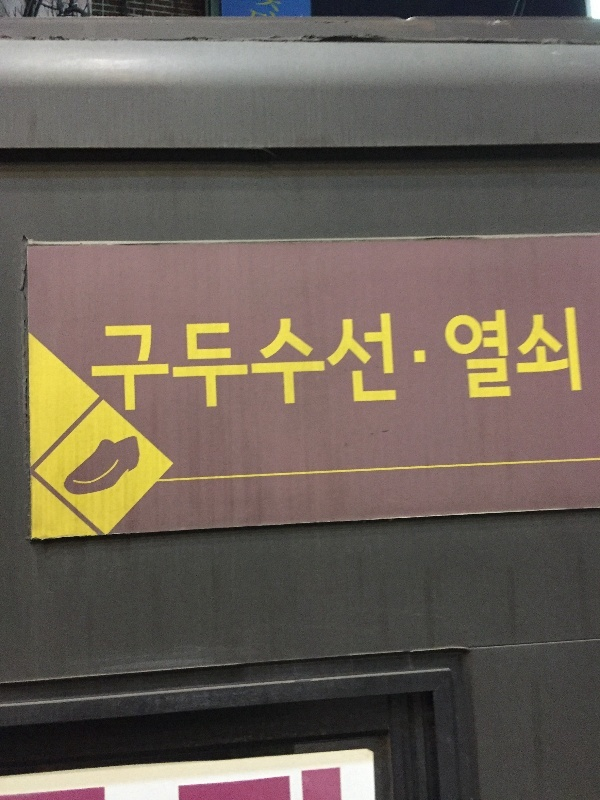text: (97, 310, 112, 413), (113, 310, 128, 413), (129, 310, 144, 413), (145, 310, 160, 413), (161, 310, 176, 413), (177, 310, 192, 413), (193, 310, 208, 413), (209, 310, 224, 413), (225, 310, 240, 413), (241, 310, 256, 413), (257, 310, 272, 413), (273, 310, 288, 413), (289, 310, 304, 413), (305, 310, 320, 413), (321, 310, 336, 413), (337, 310, 352, 413), (353, 310, 368, 413), (369, 310, 384, 413), (385, 310, 400, 413), (401, 310, 416, 413), (417, 310, 432, 413), (449, 303, 464, 402), (465, 303, 480, 402), (481, 303, 496, 402), (497, 303, 512, 402), (513, 303, 528, 402), (529, 303, 544, 402), (545, 303, 560, 402), (561, 303, 576, 402), (85, 310, 96, 413), (438, 303, 448, 402), (577, 303, 584, 402), (177, 766, 192, 800), (193, 766, 208, 800), (209, 766, 224, 800), (225, 766, 240, 800), (241, 766, 256, 800), (257, 766, 272, 800), (273, 766, 288, 800), (289, 766, 304, 800), (305, 766, 320, 800), (321, 766, 336, 800), (337, 766, 343, 800), (1, 787, 16, 800), (17, 787, 32, 800), (33, 787, 48, 800), (49, 787, 64, 800), (65, 787, 80, 800), (81, 787, 96, 800), (97, 787, 106, 800), (174, 766, 176, 800)
